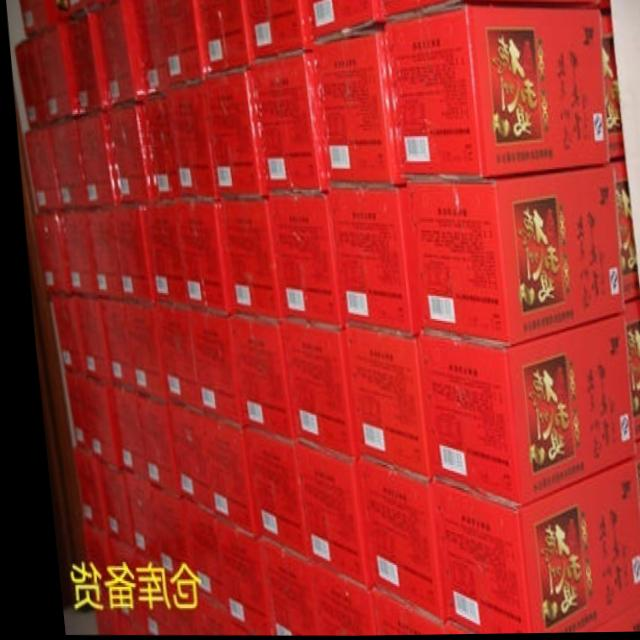box: (412, 313, 626, 506), (402, 165, 619, 347), (384, 7, 606, 183), (420, 459, 635, 635), (350, 454, 432, 623), (327, 183, 413, 339), (336, 323, 422, 479), (316, 29, 399, 185), (250, 46, 329, 194), (286, 442, 361, 590), (265, 186, 338, 331), (276, 321, 350, 459), (202, 63, 265, 198), (235, 424, 296, 559), (217, 194, 277, 321), (228, 311, 286, 442), (194, 414, 250, 541), (201, 514, 261, 622), (175, 199, 228, 317), (183, 311, 235, 426), (250, 534, 306, 636), (169, 74, 213, 199), (296, 557, 364, 636), (149, 303, 195, 414), (607, 159, 636, 330), (132, 568, 206, 635), (159, 401, 201, 518), (96, 0, 142, 105), (66, 5, 110, 114), (135, 481, 179, 587), (169, 495, 208, 607), (127, 391, 169, 495), (145, 201, 184, 312), (158, 0, 209, 84), (35, 18, 76, 121), (74, 110, 117, 208), (117, 301, 159, 399), (106, 103, 147, 203), (109, 203, 149, 303), (247, 0, 313, 59), (200, 0, 254, 72), (45, 118, 87, 210), (142, 86, 175, 201), (65, 294, 106, 385), (361, 586, 433, 636), (131, 0, 168, 93), (22, 121, 59, 214), (78, 590, 154, 635), (76, 377, 111, 471), (87, 456, 122, 550), (93, 298, 127, 393), (309, 0, 385, 42), (28, 212, 66, 296), (84, 206, 117, 301), (111, 471, 143, 568), (14, 35, 47, 129), (58, 210, 93, 298), (600, 15, 620, 161), (102, 541, 142, 612), (205, 587, 262, 636), (106, 387, 135, 483), (64, 446, 95, 535), (45, 292, 76, 375), (71, 523, 103, 602), (620, 327, 640, 444), (573, 599, 639, 634), (625, 436, 640, 584), (56, 371, 81, 454), (18, 0, 58, 35), (381, 0, 449, 18), (58, 0, 116, 20), (432, 621, 463, 636), (259, 620, 287, 636)
